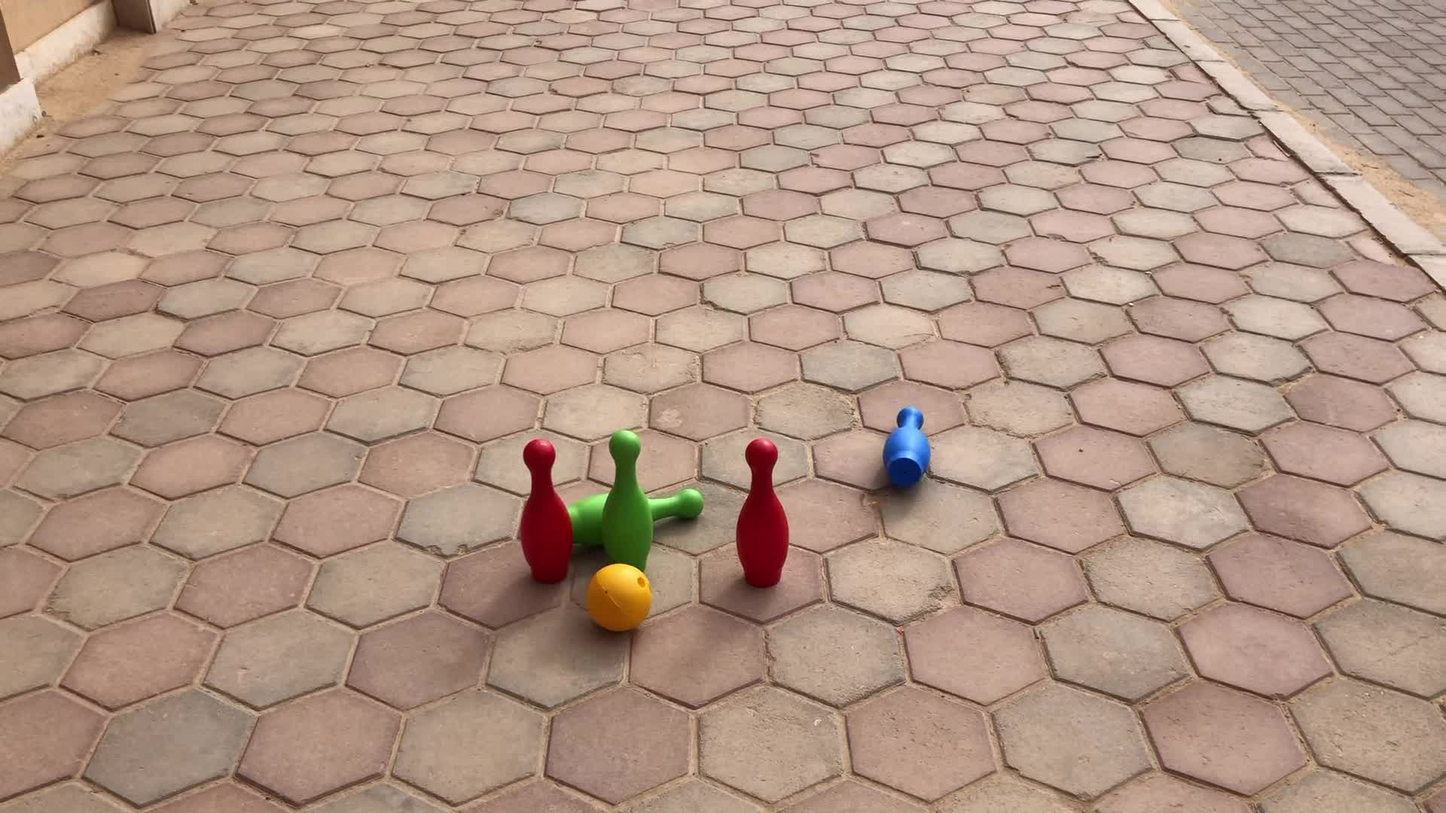bowling-pin: (737, 437, 789, 587), (520, 437, 573, 583), (602, 431, 654, 571), (883, 405, 931, 490), (567, 492, 608, 550)
